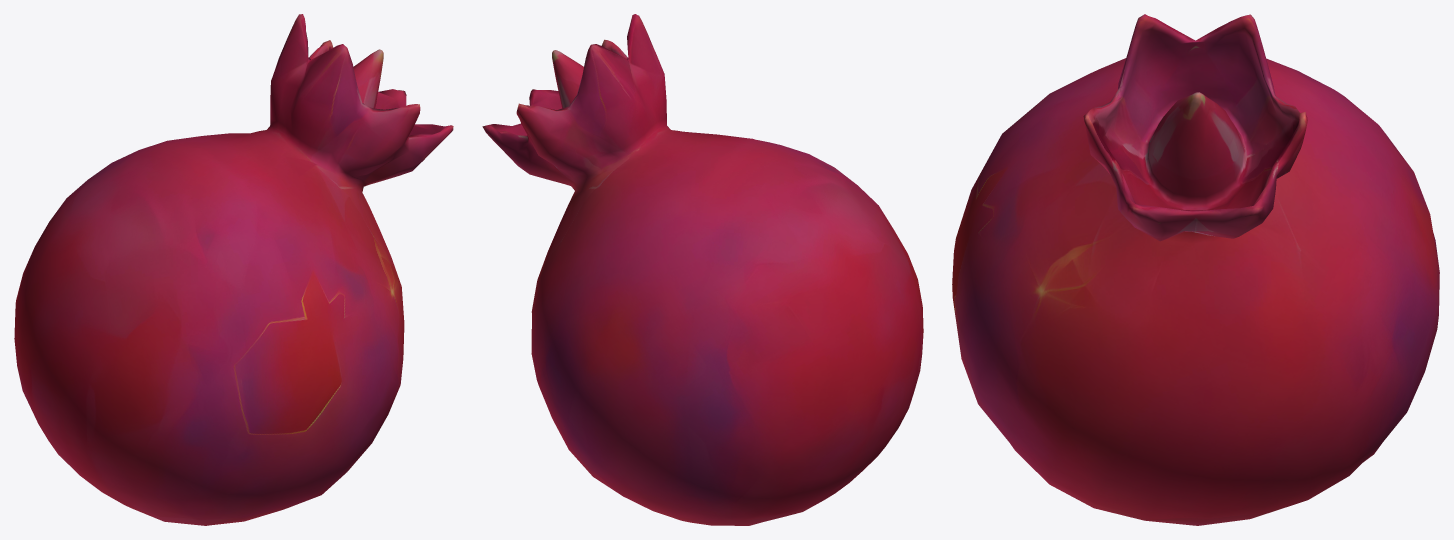
File: Bomb.glb
The picture shows the model from 3 angles, left to right: view 1: azimuth 30°, elevation 25°; view 2: azimuth 150°, elevation 25°; view 3: azimuth 270°, elevation 25°; orthographic projection. The views are drawn at different scales.
Visible parts, largest first — view 1: tripo_node_4faba84a; view 2: tripo_node_4faba84a; view 3: tripo_node_4faba84a.
Part boxes in pixels (x1,y1,x2,y2): tripo_node_4faba84a: [14, 14, 453, 525]; tripo_node_4faba84a: [482, 14, 923, 525]; tripo_node_4faba84a: [952, 14, 1439, 525].
Bounding box in the file's own units: 89.87 × 99.44 × 78.6.
1 material, 1 textured.
